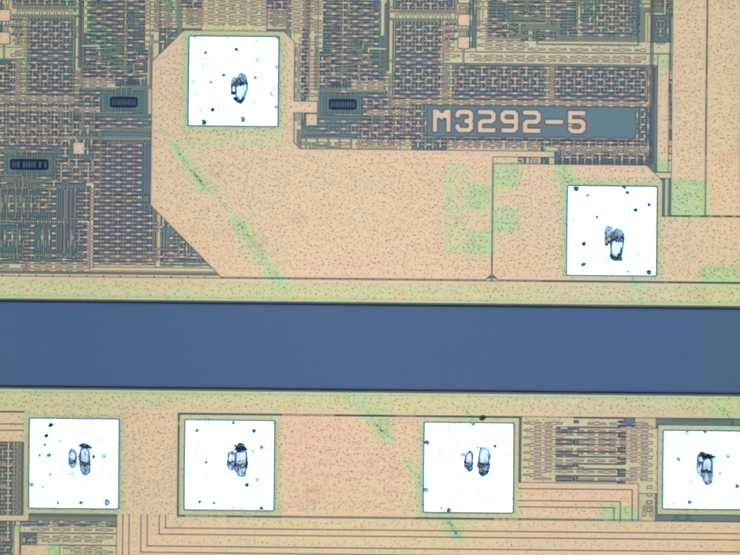SCRATCH: (156, 129, 473, 543)
